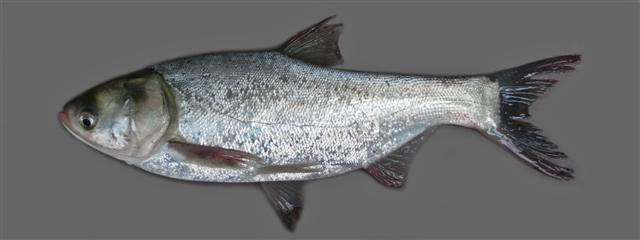Mulut: (43, 89, 85, 145)
Sirip Anal: (368, 114, 454, 198)
Sirip Dada: (165, 133, 268, 177)
Sirip Ekor: (486, 44, 596, 190)
Sirip Perut: (256, 154, 318, 234)
Sirip Punggung: (282, 14, 354, 70)
